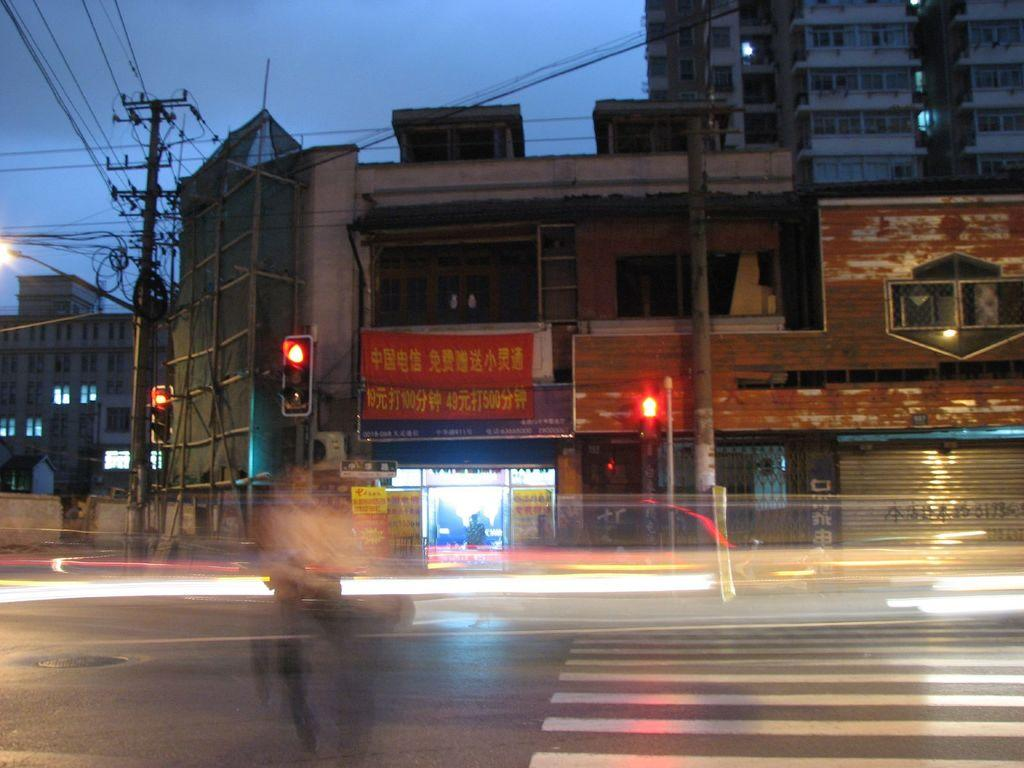red_light: (281, 334, 314, 417)
